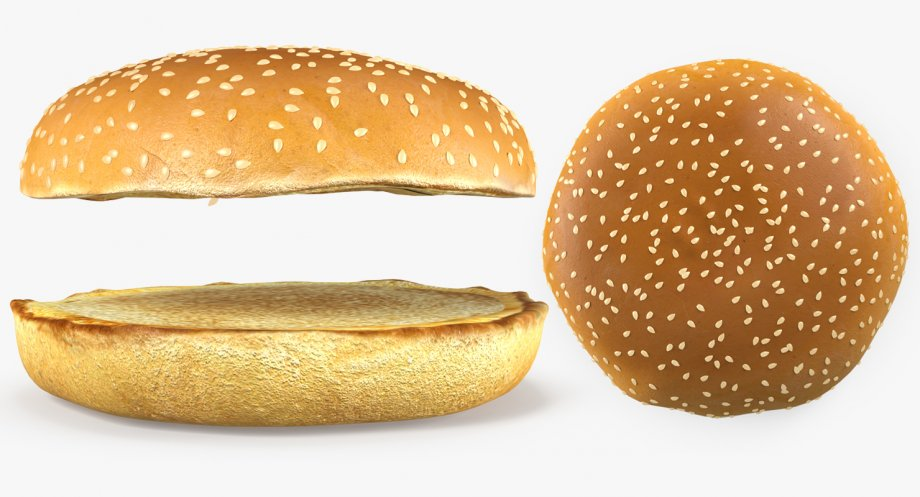hamburger_buns: (15, 56, 553, 430), (545, 51, 915, 435)
